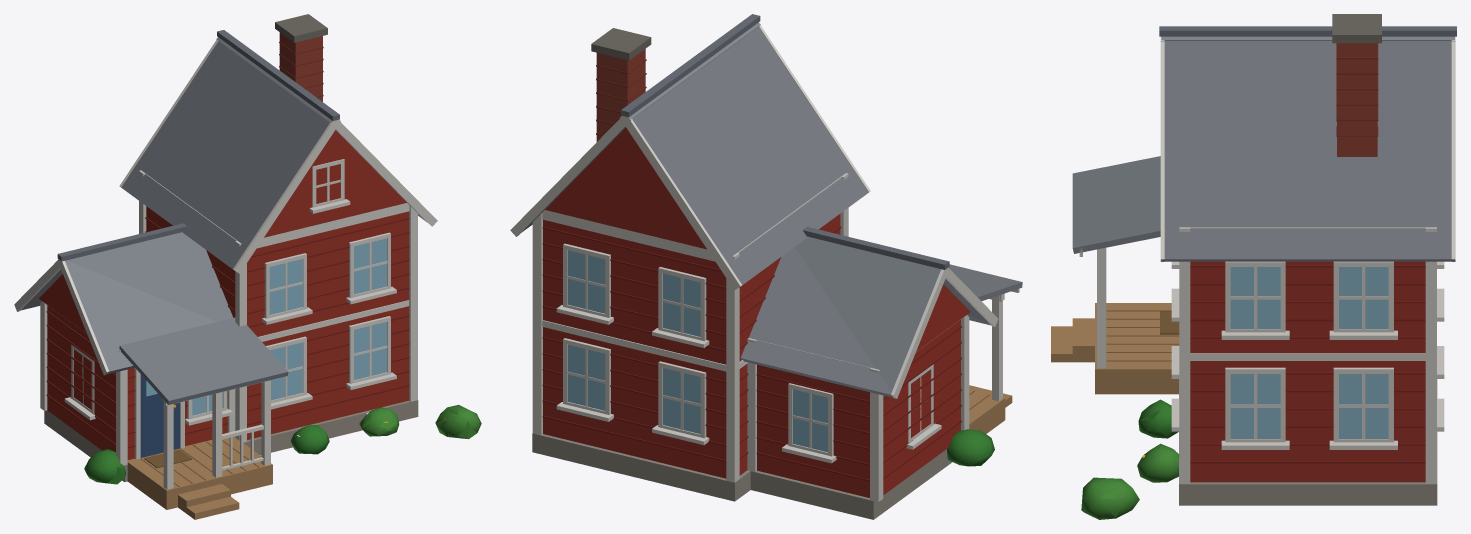
The model's file is farmhouse.glb.
3 views of the same model, side by side, from view 1: azimuth 30°, elevation 25°; view 2: azimuth 150°, elevation 25°; view 3: azimuth 270°, elevation 25° (orthographic). The views are drawn at different scales.
Visible parts, largest first — view 1: building-farmhouse, building-farmhouse-far; view 2: building-farmhouse, building-farmhouse-far; view 3: building-farmhouse, building-farmhouse-far.
Boxes of the visible parts, left/top/right/bottom form: building-farmhouse: left=14, top=14, right=481, bottom=519; building-farmhouse-far: left=86, top=405, right=481, bottom=484; building-farmhouse: left=510, top=14, right=1022, bottom=519; building-farmhouse-far: left=744, top=248, right=993, bottom=465; building-farmhouse: left=1051, top=14, right=1456, bottom=519; building-farmhouse-far: left=1081, top=261, right=1178, bottom=517.
Size of the model in its own units: 7.86 by 7.6 by 6.19.
